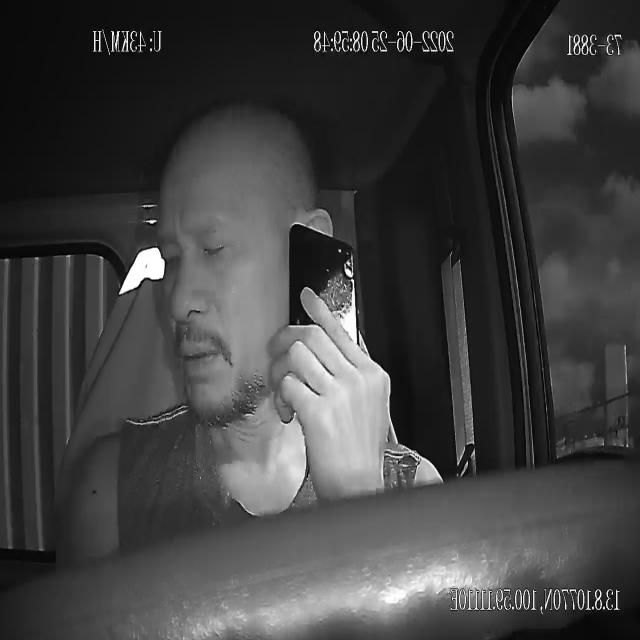phone: (289, 222, 358, 390)
